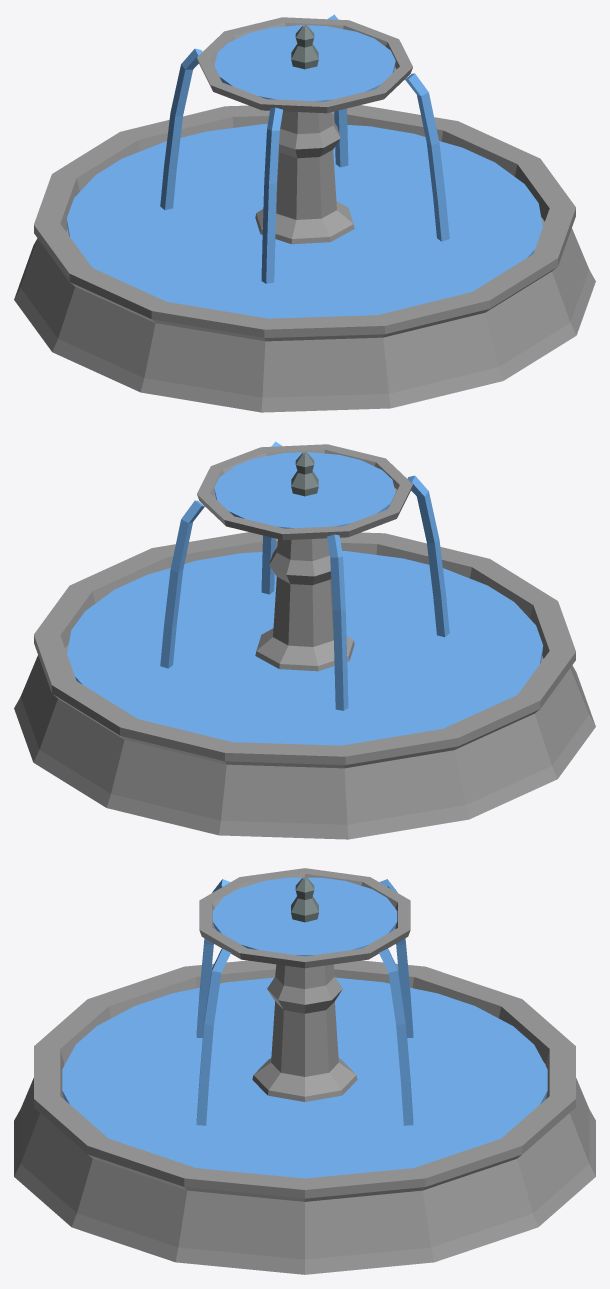
The model's file is fountainSmall.glb.
The picture shows the model from 3 angles, top to bottom: view 1: azimuth 30°, elevation 25°; view 2: azimuth 150°, elevation 25°; view 3: azimuth 270°, elevation 25°; orthographic projection. The views are drawn at different scales.
Parts seen in each view (by area): view 1: fountainSmall-m; view 2: fountainSmall-m; view 3: fountainSmall-m.
Part boxes in pixels (x1=…): fountainSmall-m: x1=14, y1=14, x2=595, y2=412; fountainSmall-m: x1=14, y1=441, x2=595, y2=839; fountainSmall-m: x1=14, y1=868, x2=595, y2=1274.
Bounding box in the file's own units: 4.4 × 2.2 × 4.29.
